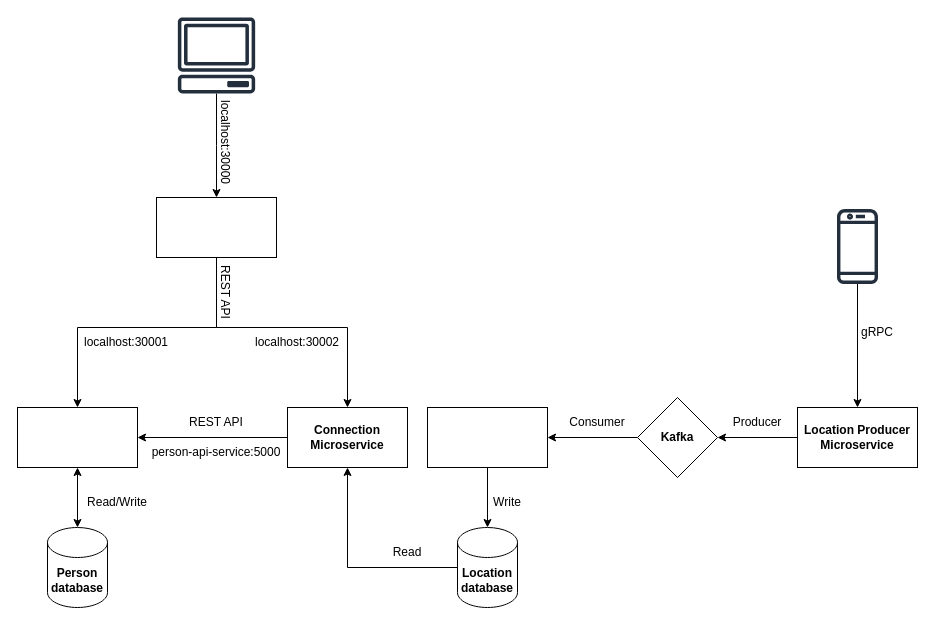
Some shapes in this 935 by 625 pixel diagram are drawn without their labels. Each missing label, with the box of its shape:
Location Consumer Microservice: (426, 406, 548, 468)
Person Microservice: (16, 406, 138, 468)
Udaconnect App: (156, 196, 276, 258)
